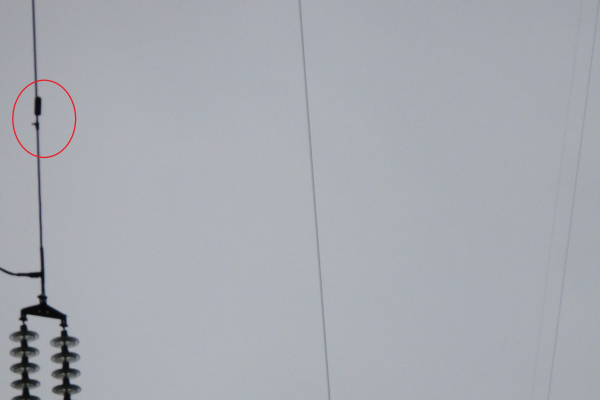damper_defect: (30, 95, 44, 135)
